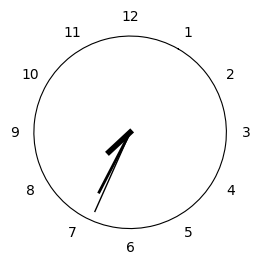12: (122, 9, 138, 23)
circle: (33, 36, 225, 229)
hours: (105, 128, 134, 154)
minutes: (97, 140, 125, 193)
seconds: (94, 141, 126, 211)
